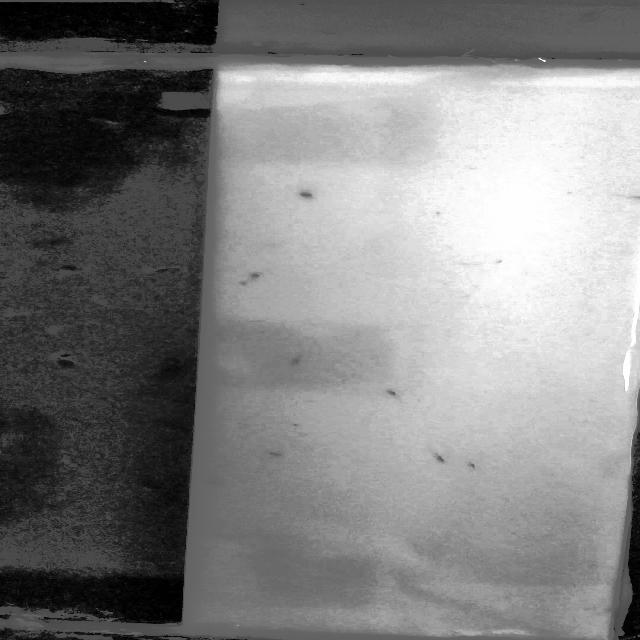shrimp: (260, 445, 321, 465), (237, 268, 284, 290), (282, 182, 319, 204), (283, 347, 314, 370), (198, 476, 233, 490), (374, 386, 414, 398), (421, 452, 453, 467), (464, 460, 484, 473)
